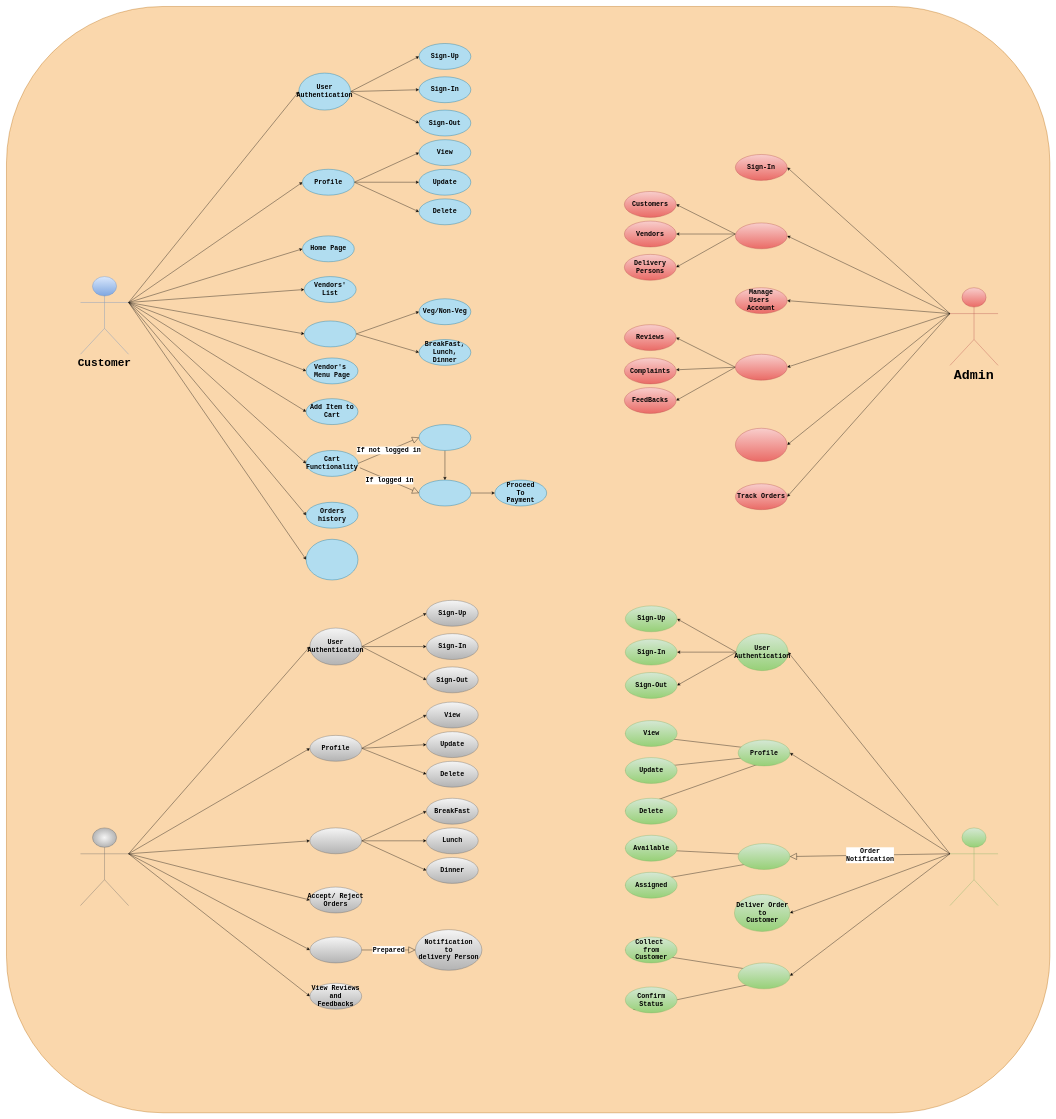
The diagram is 1056 pixels wide and 1119 high, and some of its shapes have lost their labels. Each missing label, with the centre of its shape:
"Add Menu Items" goes at (x=336, y=841).
"Delivery Person" goes at (x=974, y=867).
"Filters" goes at (x=330, y=334).
"Give Review /Feedback/ Complaint" goes at (x=332, y=559).
"Payment" goes at (x=764, y=976).
"Select/ Choose Address" goes at (x=445, y=493).
"Sign-Up/Sign-In" goes at (x=445, y=437).
"Update Order Status" goes at (x=336, y=950).
"Vendor" goes at (x=104, y=867).
"View Order" goes at (x=764, y=856).
"View Orders in Pipeline" goes at (x=761, y=445).
"View Statistics" goes at (x=761, y=236).
"View/ Response to" goes at (x=761, y=367).
